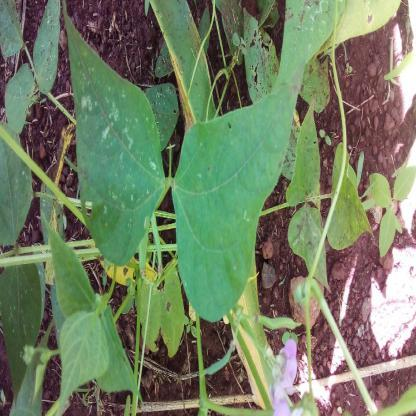Beans_Angular_LeafSpot: (169, 95, 297, 324), (67, 11, 168, 269), (278, 0, 345, 100), (287, 208, 335, 292), (240, 13, 281, 104), (28, 0, 66, 96)
